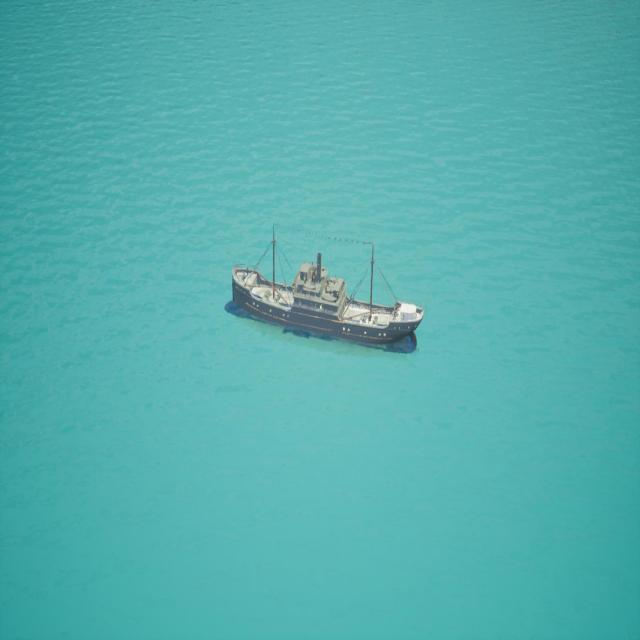fishing ship: (231, 235, 424, 353)
